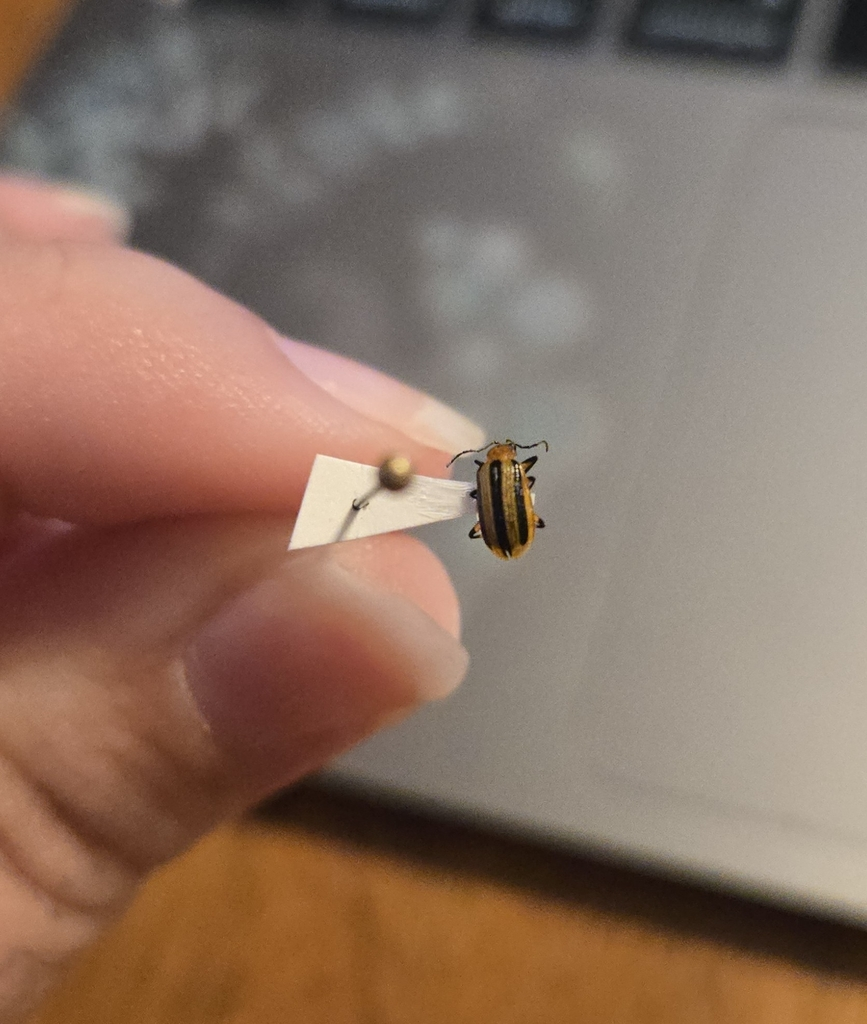potato_beetle: (409, 390, 595, 613)
